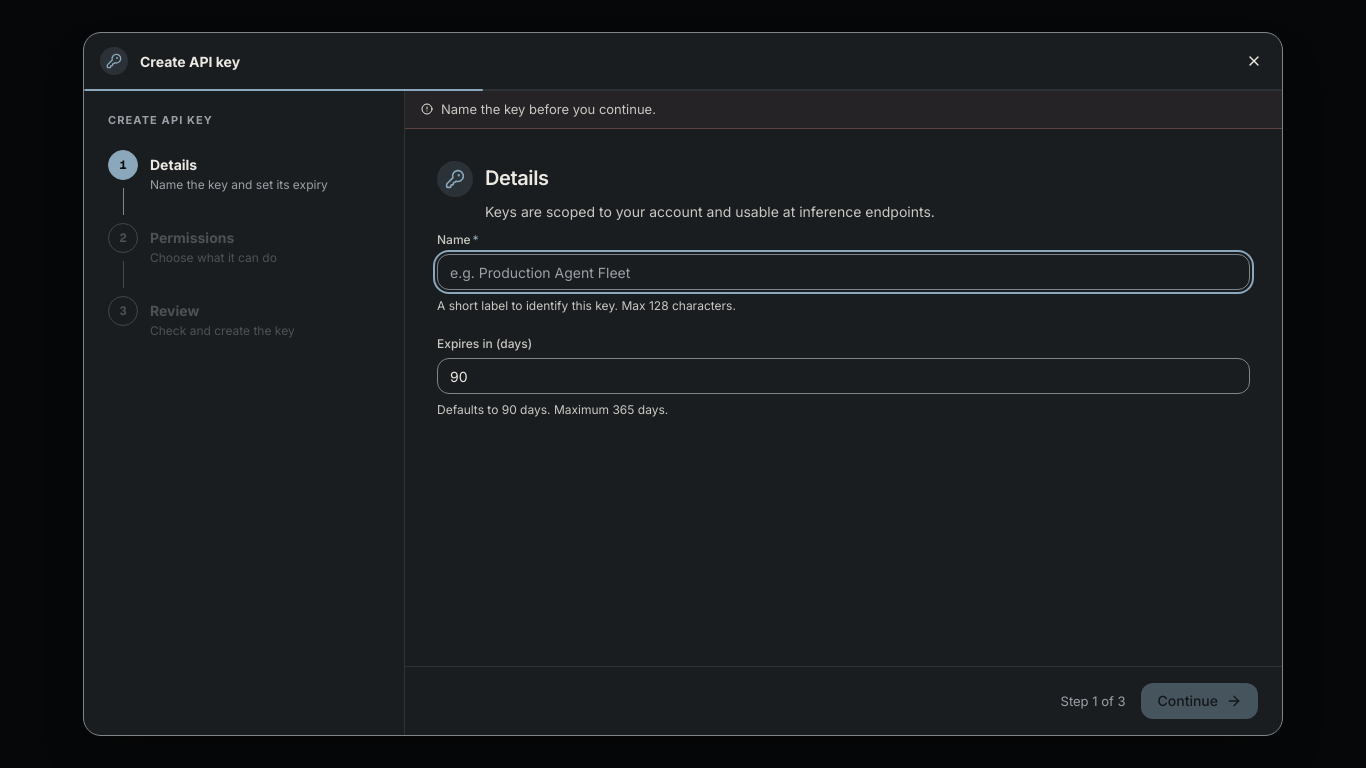
CreateApiKeyWizard › keeps the wizard on review with the server message when creation fails
The image size is (1366, 768).
Step 1. Type "CI key" into the field labelled "Name*" → {"x": 844, "y": 272}, box top-left (437, 254), bottom-right (1250, 290)
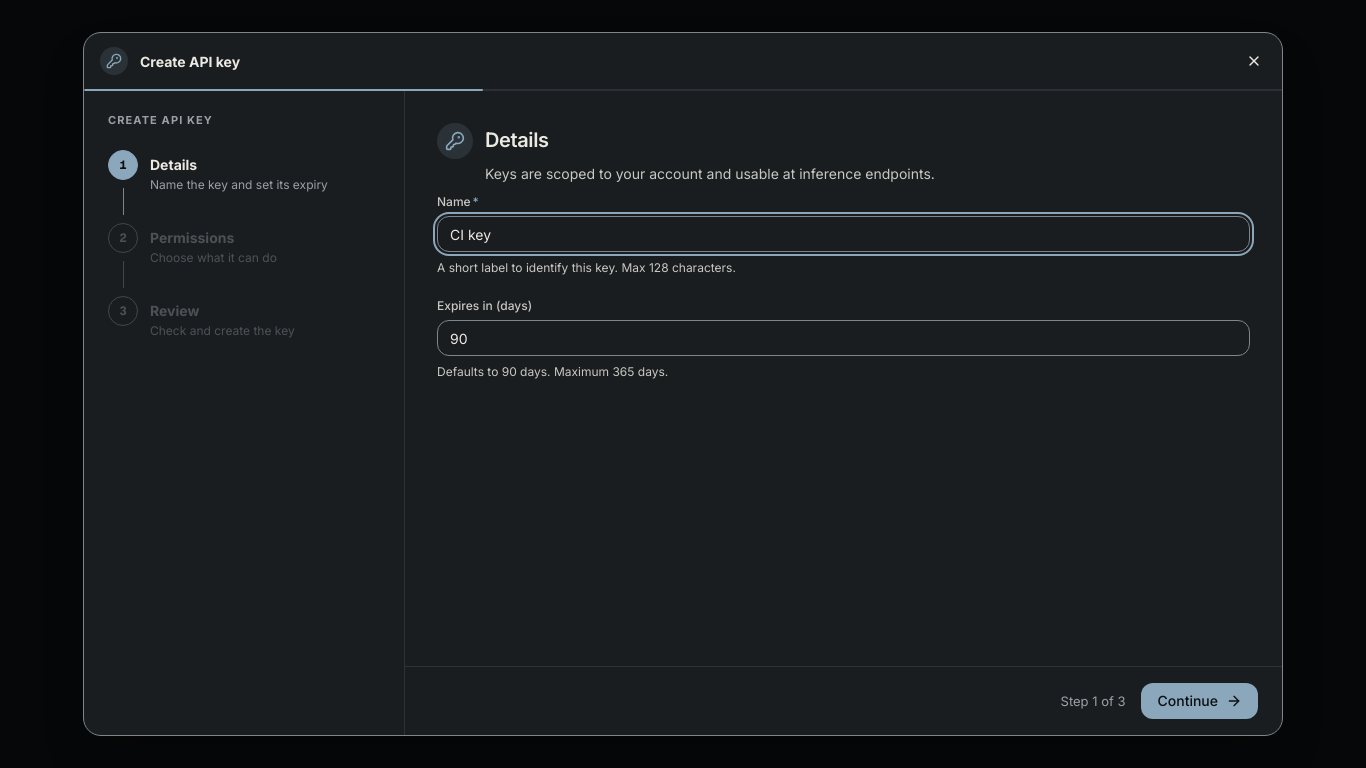
Step 2. Click the button "Continue" → {"x": 1200, "y": 701}, box top-left (1142, 683), bottom-right (1258, 719)
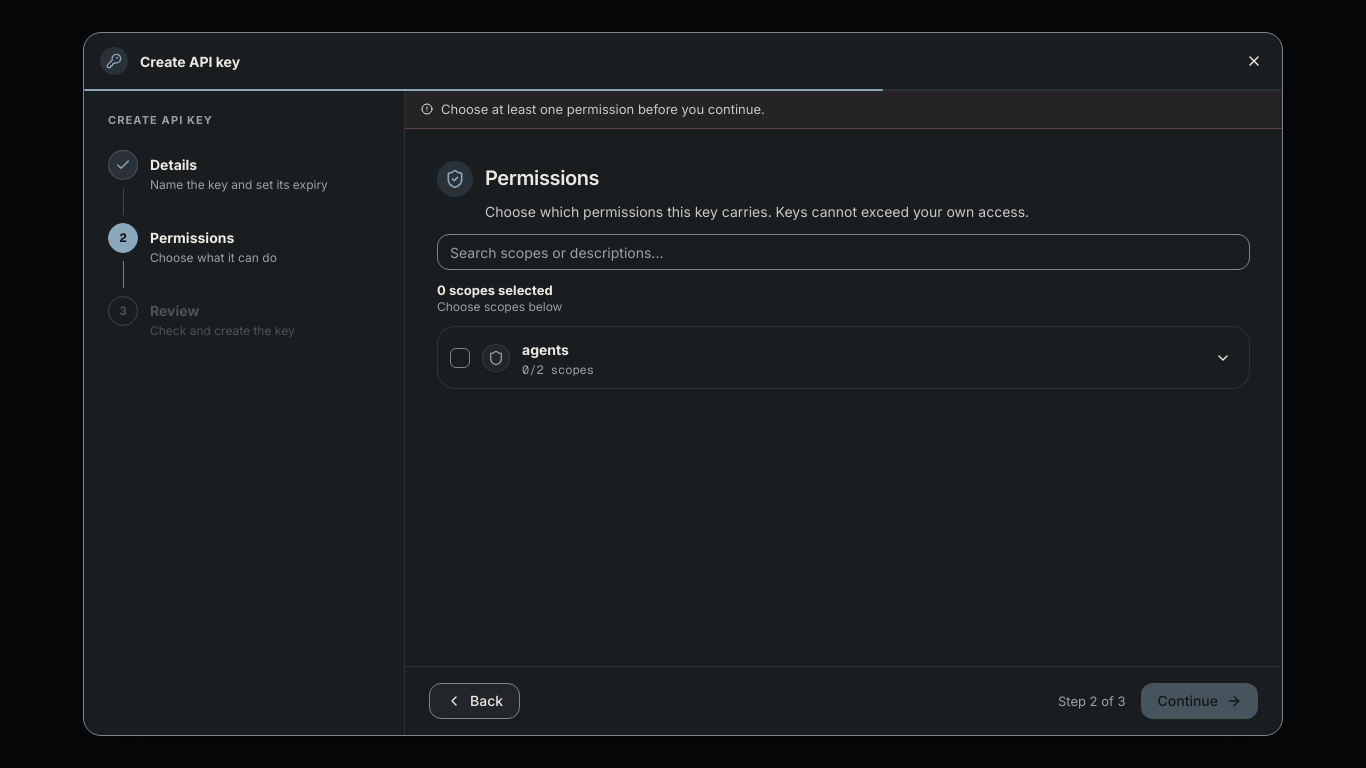
Step 3. Click the checkbox → {"x": 460, "y": 358}, box top-left (450, 348), bottom-right (470, 368)
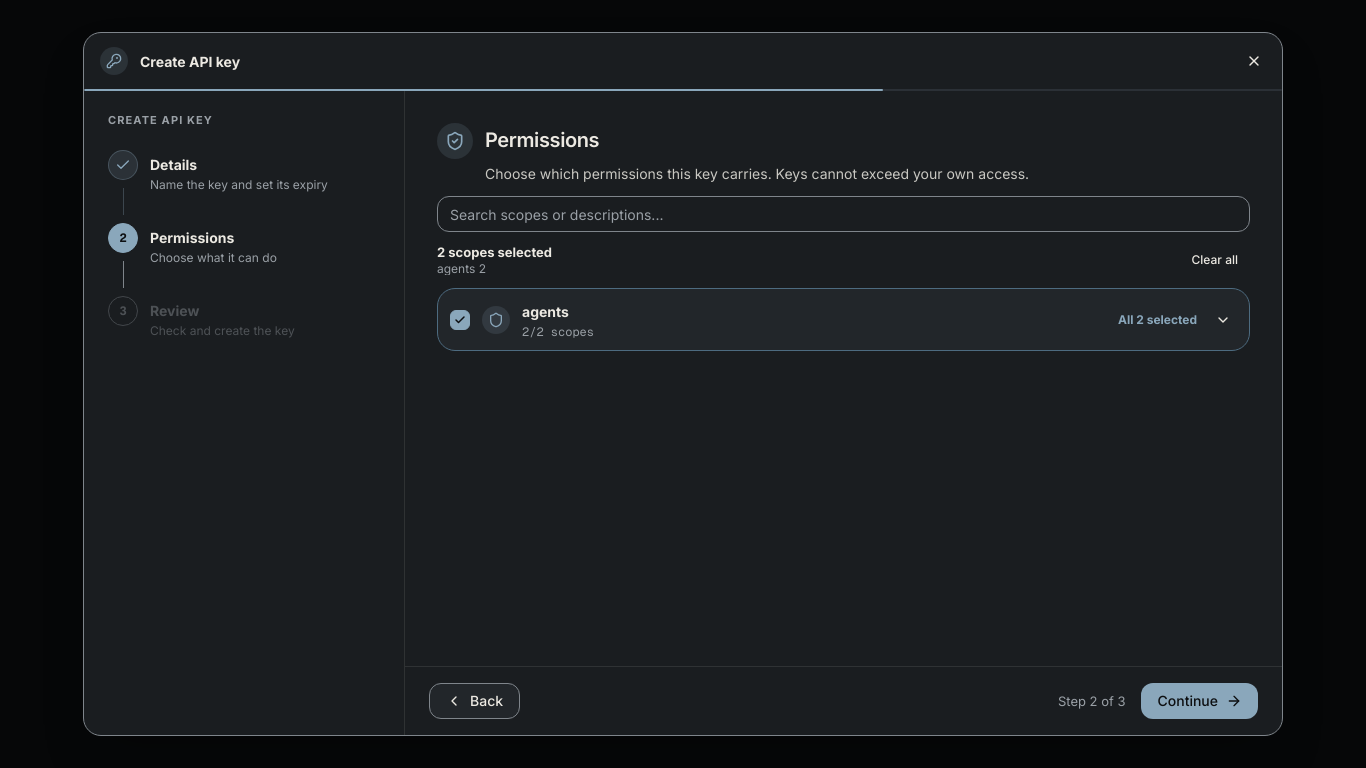
Step 4. Click the button "Continue" → {"x": 1200, "y": 701}, box top-left (1142, 683), bottom-right (1258, 719)
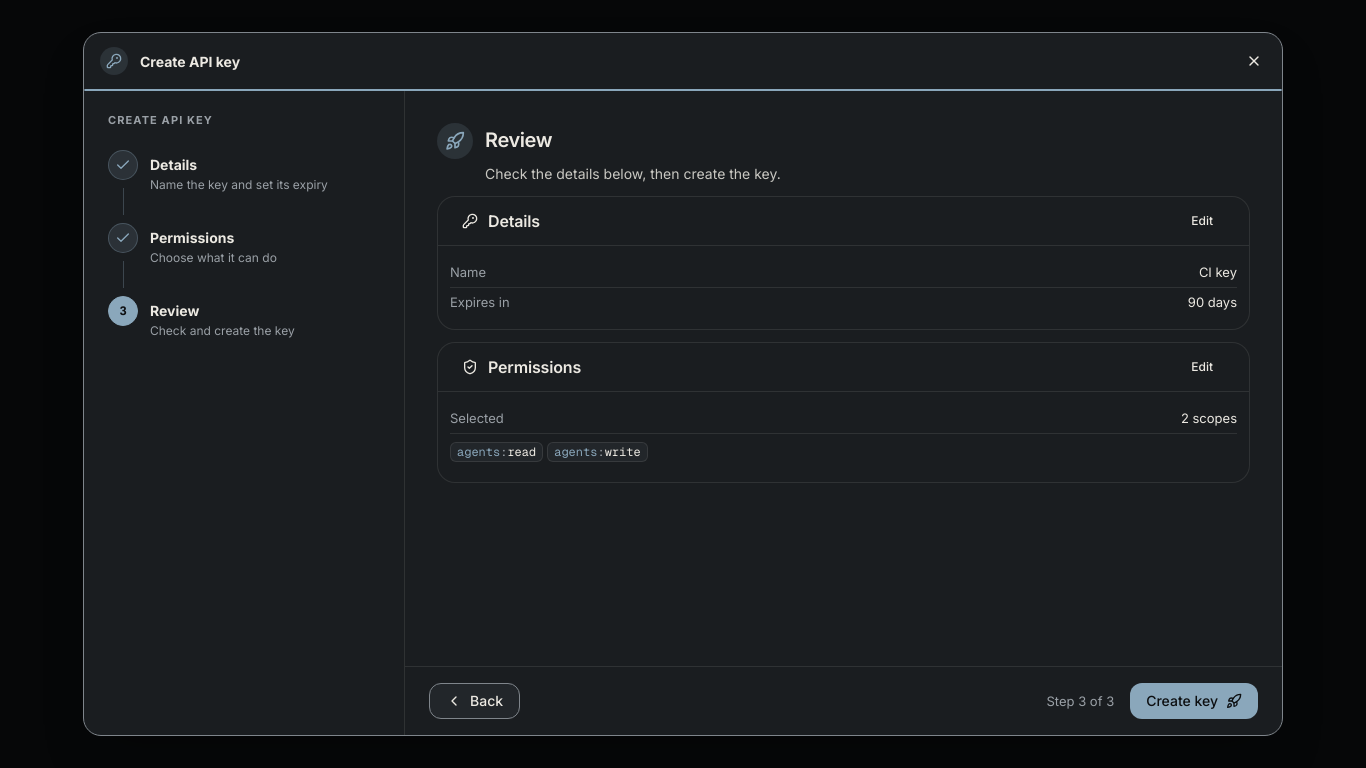
Step 5. Click the button "Create key" → {"x": 1194, "y": 701}, box top-left (1130, 683), bottom-right (1258, 719)
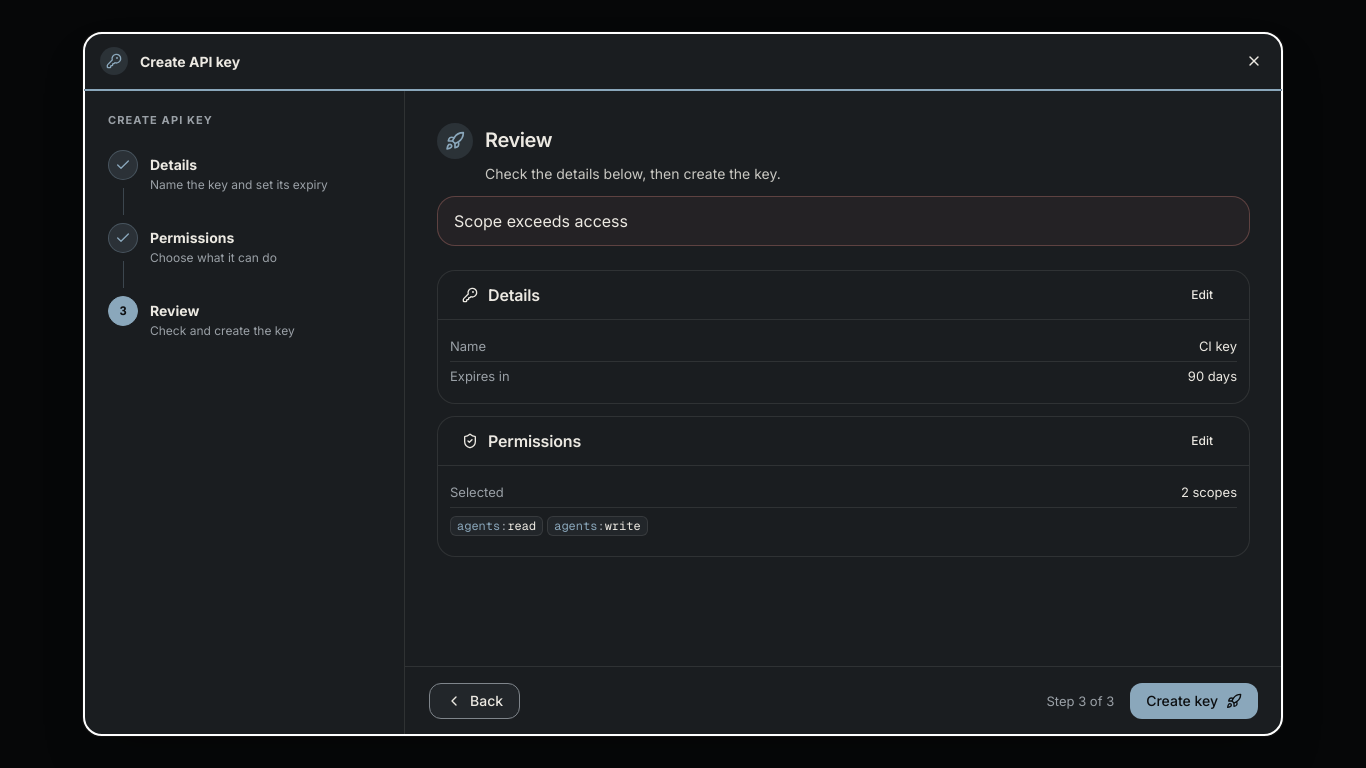
Check: the button "Create key" is enabled, box top-left (1130, 683), bottom-right (1258, 719)
Check: the text "Scope exceeds access" is shown, box top-left (437, 196), bottom-right (1250, 246)
